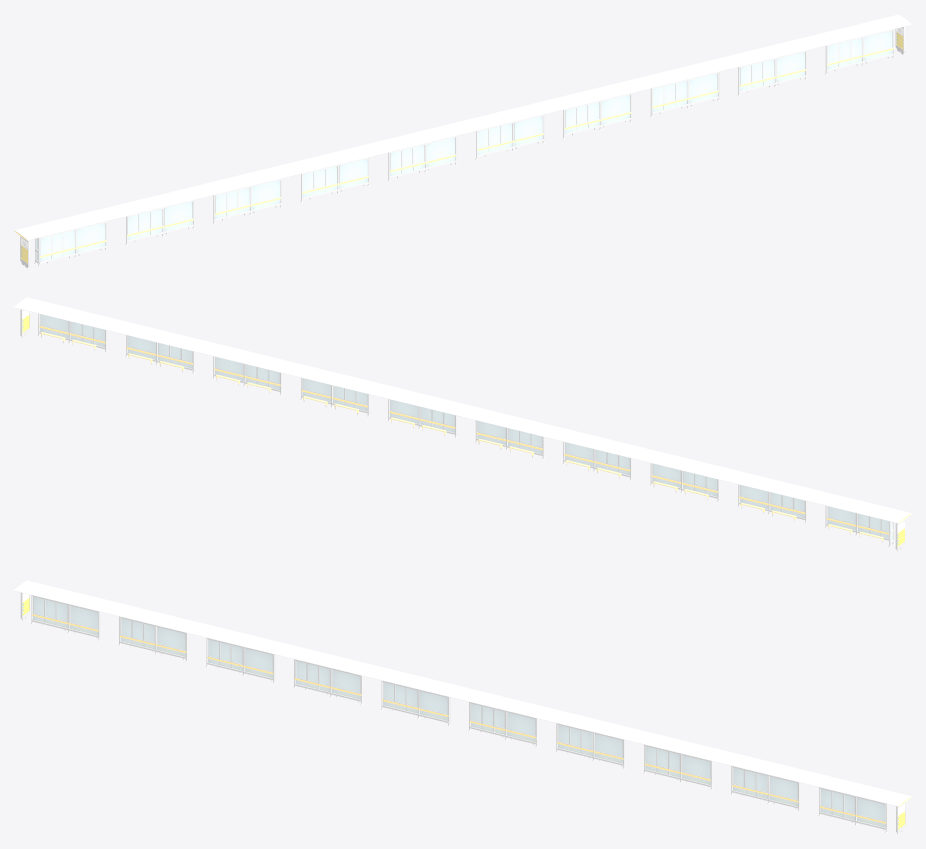
Rendered from Bus_Stop_5.glb.
The picture shows the model from 3 angles, top to bottom: view 1: azimuth 30°, elevation 25°; view 2: azimuth 150°, elevation 25°; view 3: azimuth 330°, elevation 25°; orthographic projection.
Parts seen in each view (by area): view 1: Bus_Stop_5; view 2: Bus_Stop_5; view 3: Bus_Stop_5.
Part boxes in pixels (box(x1,y1,x2,y2)): Bus_Stop_5: box(14, 14, 911, 268); Bus_Stop_5: box(14, 297, 911, 551); Bus_Stop_5: box(14, 580, 911, 834).
Bounding box in the file's own units: 76 × 2.7 × 2.
5 materials, 3 textured.
